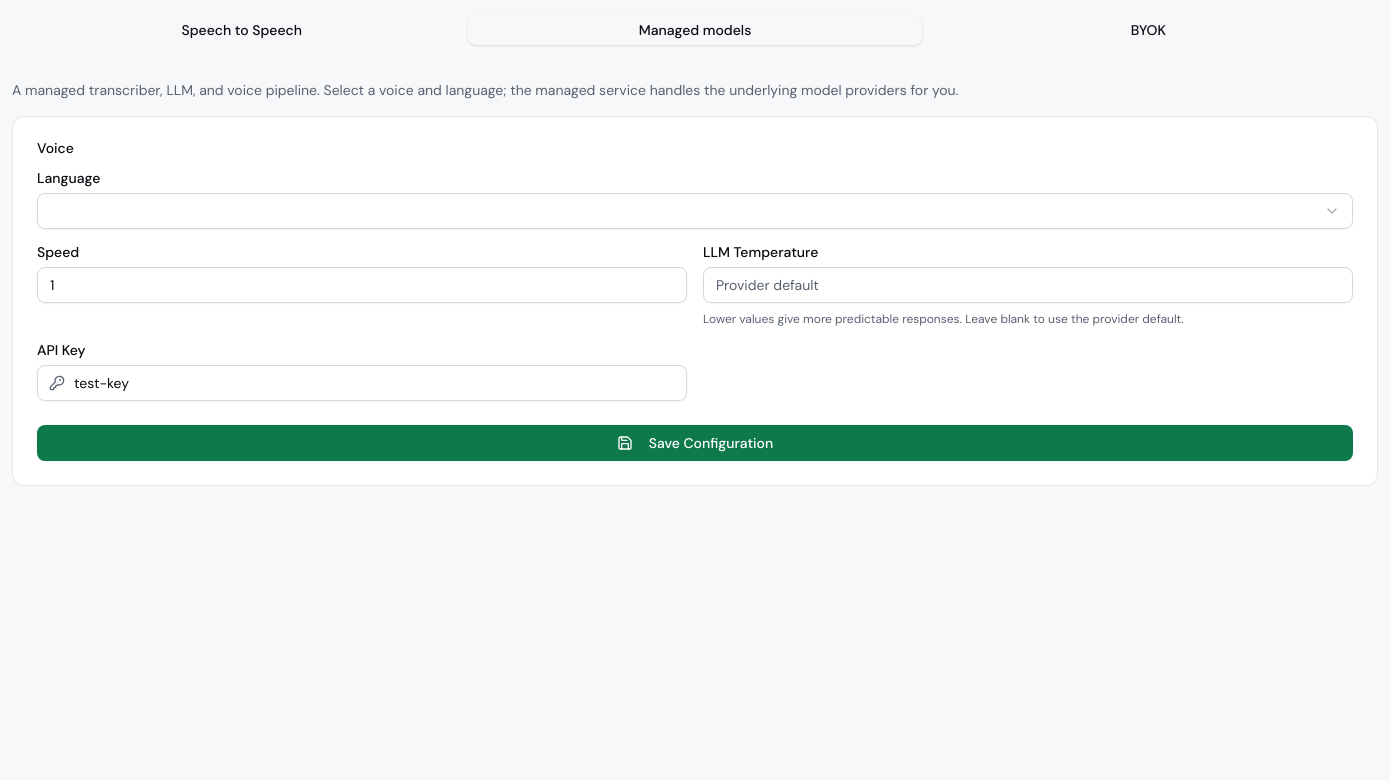
Test: Managed model temperature › rejects negative temperatures before saving
The width and height of the screenshot is (1390, 780).
Step 1. Type "-0.1" into the number field labelled "LLM Temperature" → (1028, 285), box [703, 267, 1353, 303]
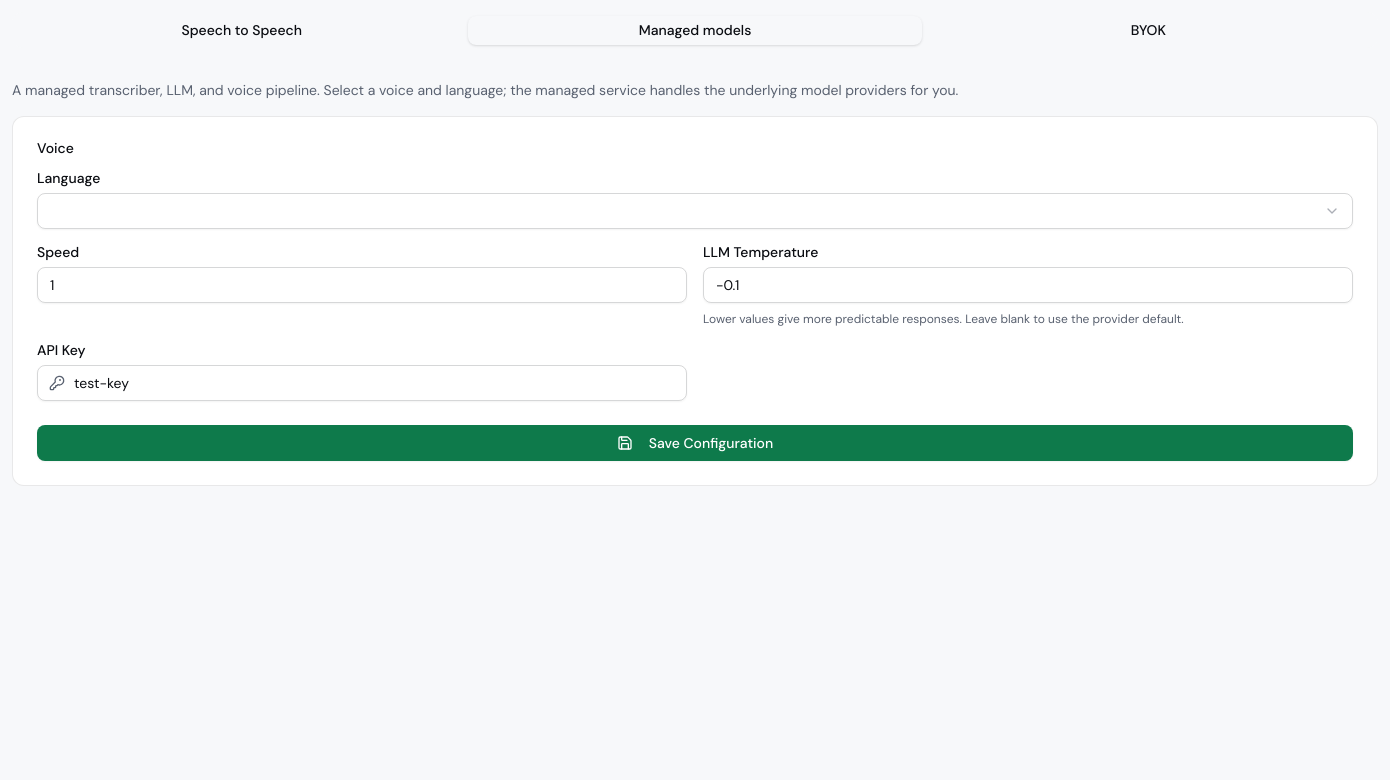
Step 2. Click the button "Save Configuration" → (695, 443), box [37, 425, 1353, 461]
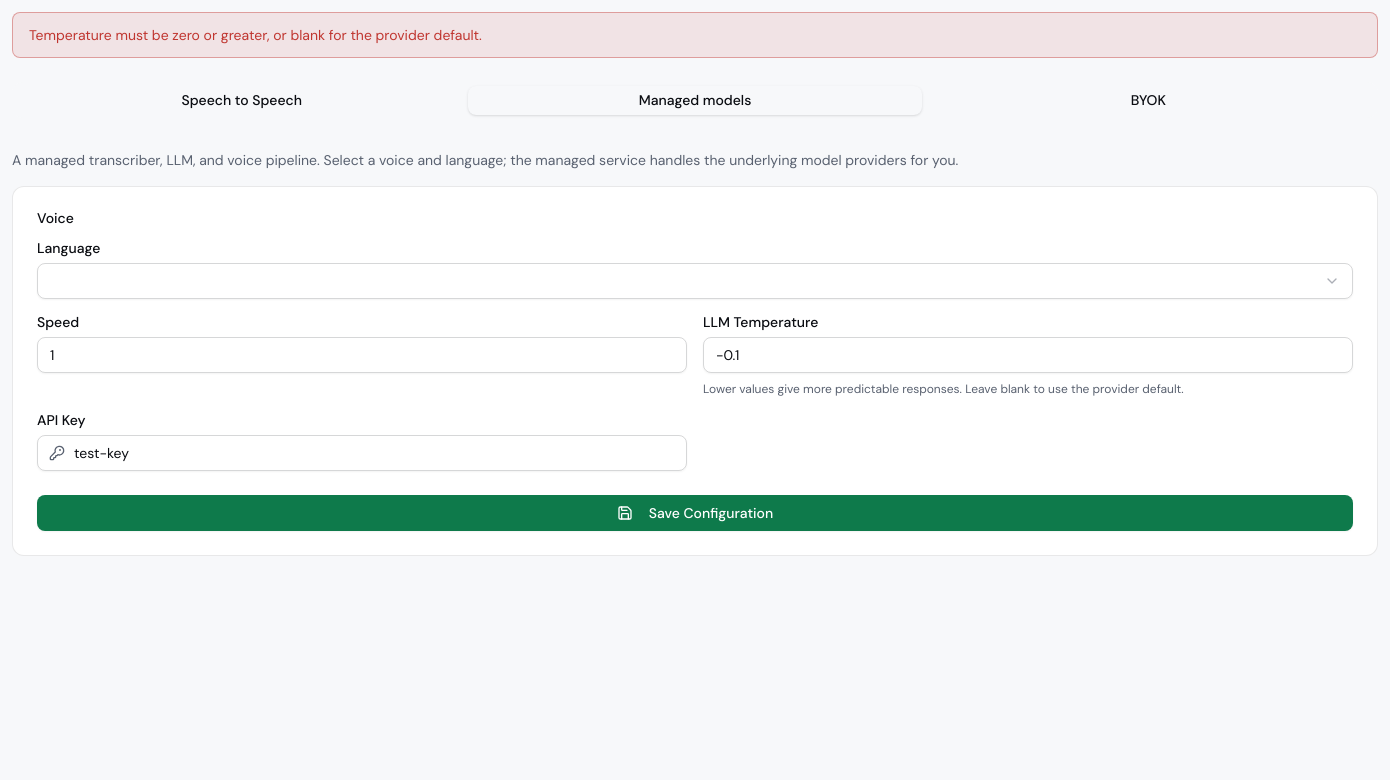
Check: the text "Temperature must be zero or greater" is shown, box [29, 26, 482, 44]
